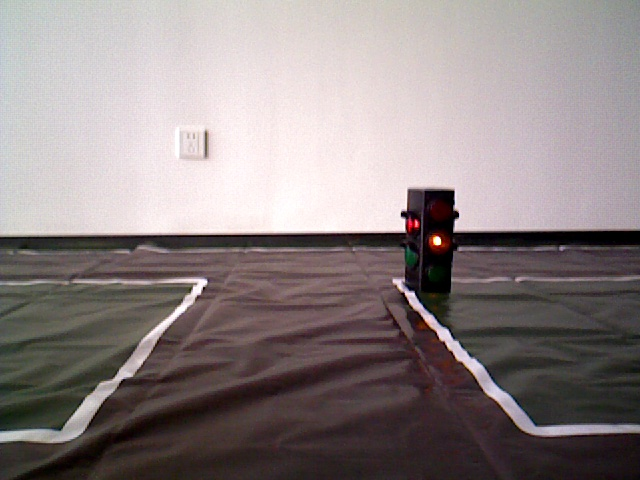yellow: (405, 188, 453, 289)
